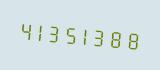eight: (107, 22, 121, 53), (122, 23, 136, 54)
five: (62, 18, 76, 49)
four: (17, 14, 31, 45)
one: (32, 15, 46, 47), (77, 19, 91, 50)
three: (47, 17, 61, 48), (92, 21, 106, 52)
